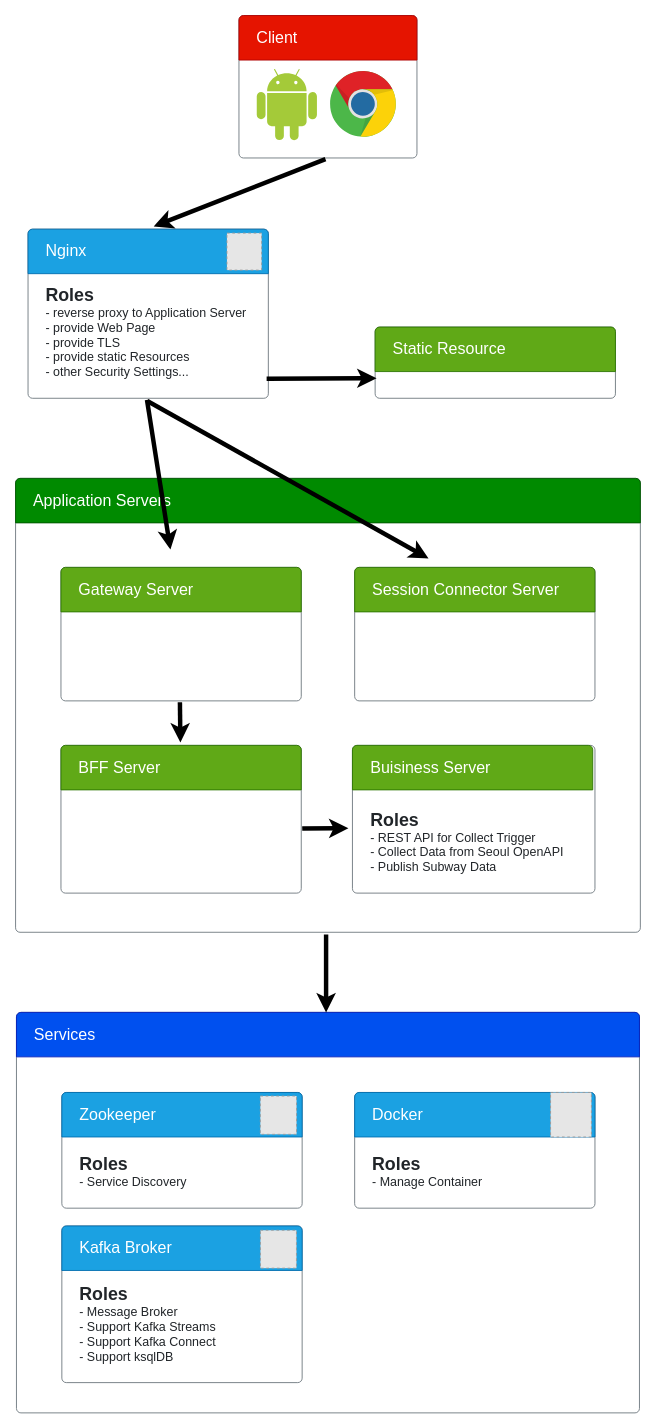
Some shapes in this 656 by 1428 pixel diagram are drawn without their labels. Grey dashed boxes stand in for pictures. Here are the shapes that lost their labels. From the top down, the centre of each, then its label:
At point (180, 633): "Roles - Route Request to Server - No Auth".
At point (474, 633): "Roles - Provide WebSocket Session - No Auth".
At point (180, 818): "Roles - REST API for Client".
